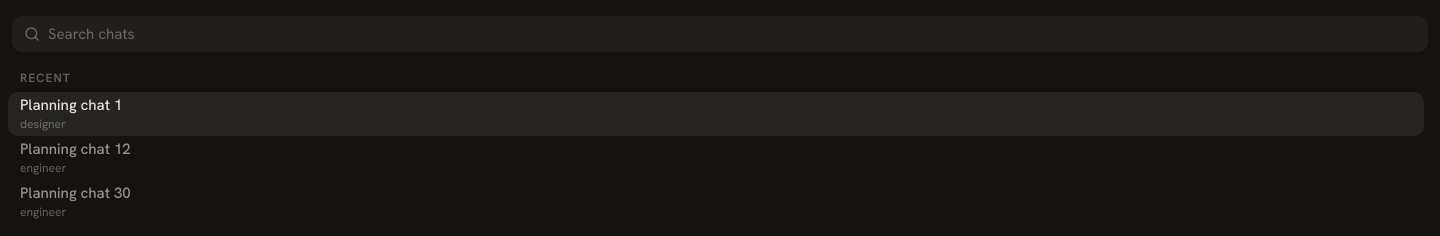
it: SessionPicker › narrows to server search matches
Type "chat 12" into the dropdown labelled "Search chats". click: [732, 34]
box: [48,23,1416,45]
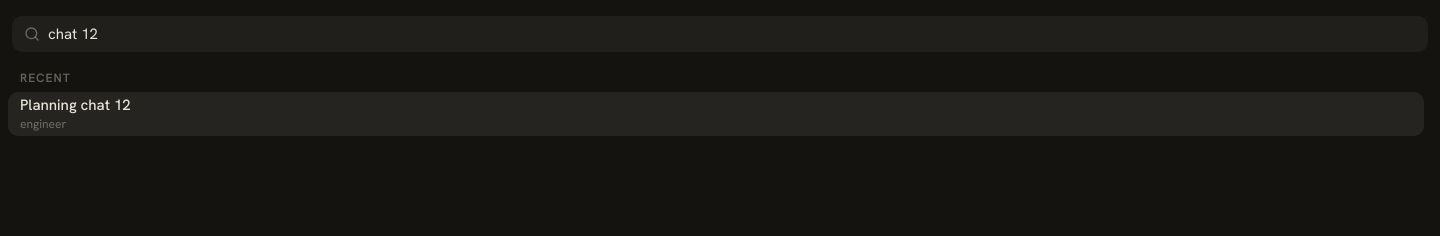
Expected: the text "Planning chat 12" is shown, [20,95,131,115]
Now the option "Planning chat 30" is gone
